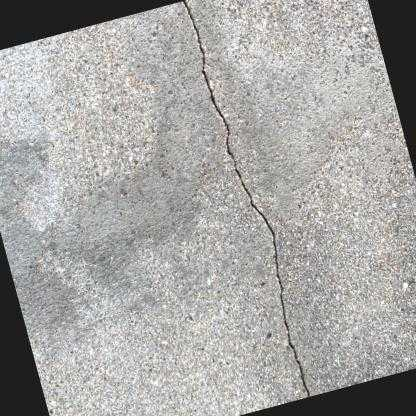crack: (181, 0, 308, 397)
